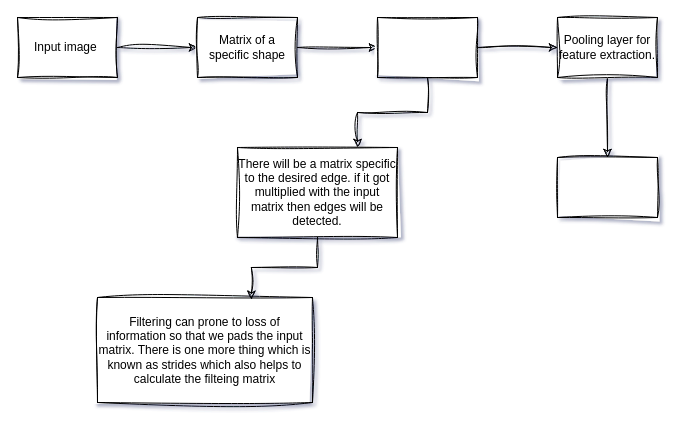
The diagram is 681 pixels wide and 426 high, and some of its shapes have lost their labels. Each missing label, with the centre of its shape:
"Edge detection by filtering process" goes at [427,47].
"Output" goes at [607,187].
